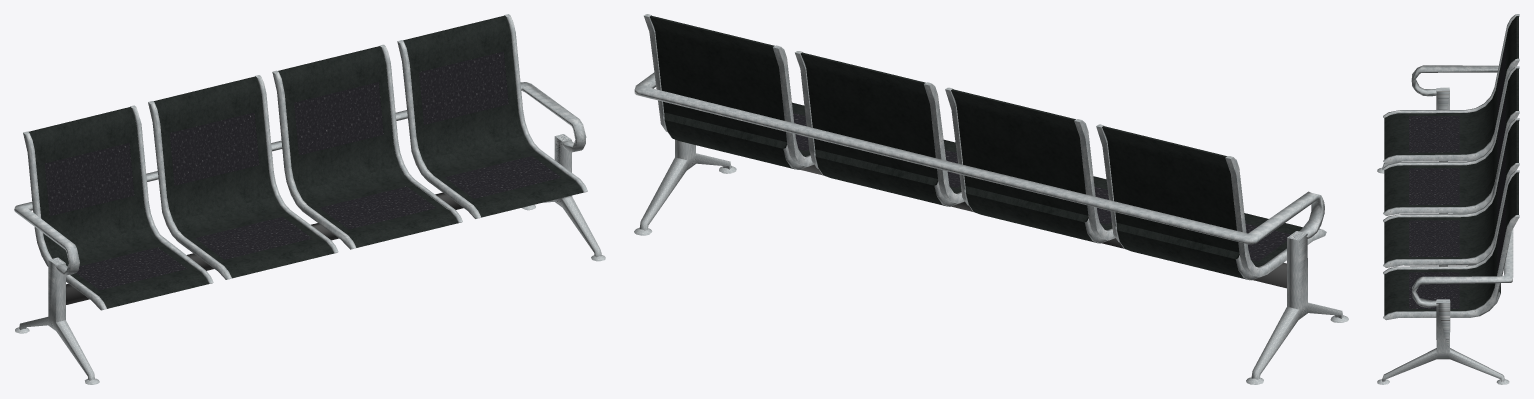
File: waiting_chairs.glb
3 renders of one model, left to right at view 1: azimuth 30°, elevation 25°; view 2: azimuth 150°, elevation 25°; view 3: azimuth 270°, elevation 25°, orthographic. The views are drawn at different scales.
Visible parts, largest first — view 1: Object_13, Object_15, Object_7, Object_5; view 2: Object_13, Object_7, Object_15, Object_5; view 3: Object_13, Object_7, Object_15.
Boxes of the visible parts, box(x1,y1,x2,y2) form: Object_13: box(28, 15, 583, 308); Object_15: box(45, 51, 561, 290); Object_7: box(14, 14, 605, 384); Object_5: box(66, 192, 463, 304); Object_13: box(650, 15, 1302, 279); Object_7: box(634, 14, 1348, 384); Object_15: box(793, 113, 1290, 261); Object_5: box(800, 164, 1286, 288); Object_13: box(1384, 16, 1518, 315); Object_7: box(1377, 14, 1519, 384); Object_15: box(1409, 45, 1505, 308).
Size of the model in its own units: 2.21 by 0.7642 by 0.6126.
4 materials, 3 textured.
